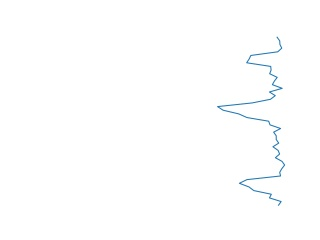underwaterNaturalLevee: (215, 35, 288, 210)
